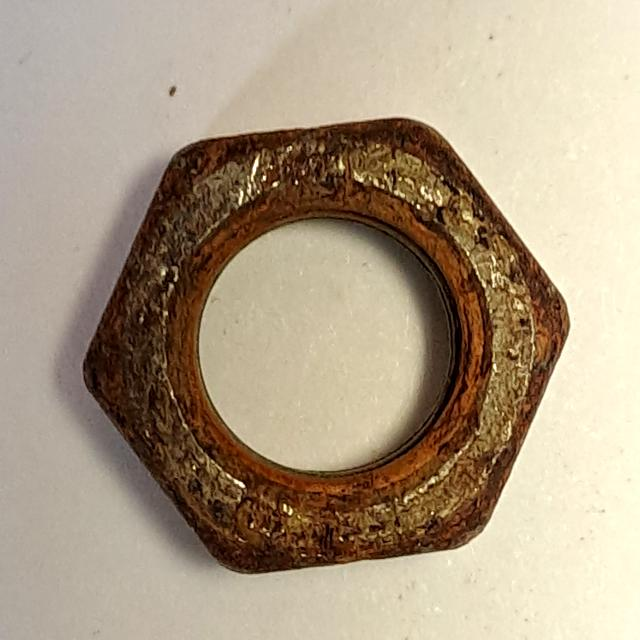Rust: (70, 109, 583, 592)
